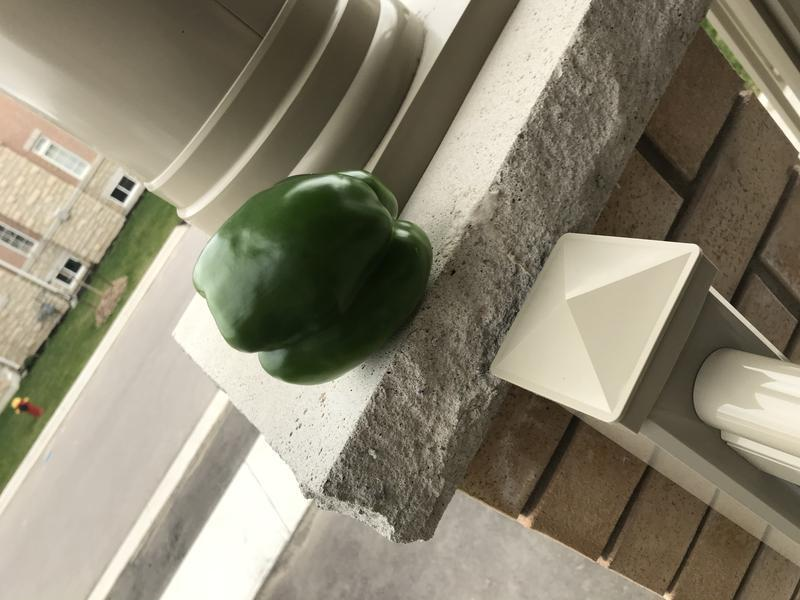green_pepper: (183, 163, 444, 390)
